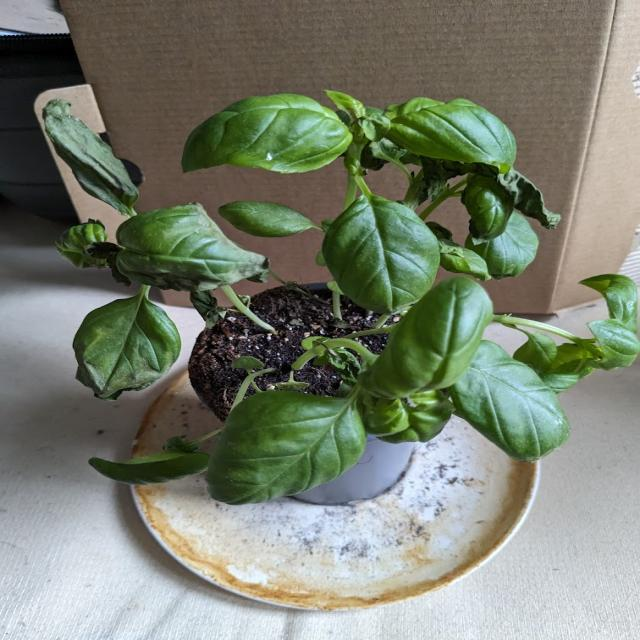dark: (40, 100, 146, 210), (466, 164, 572, 225), (68, 356, 176, 401), (226, 249, 270, 284), (90, 247, 129, 264)
healthy: (206, 395, 366, 508), (319, 192, 438, 311), (447, 350, 572, 459), (218, 197, 318, 238), (83, 452, 207, 485), (476, 234, 537, 279), (382, 402, 448, 443), (580, 274, 634, 318), (180, 117, 218, 171), (593, 323, 636, 367), (437, 243, 486, 274)
yellow: (233, 147, 336, 178), (383, 98, 481, 116), (329, 89, 369, 121)
